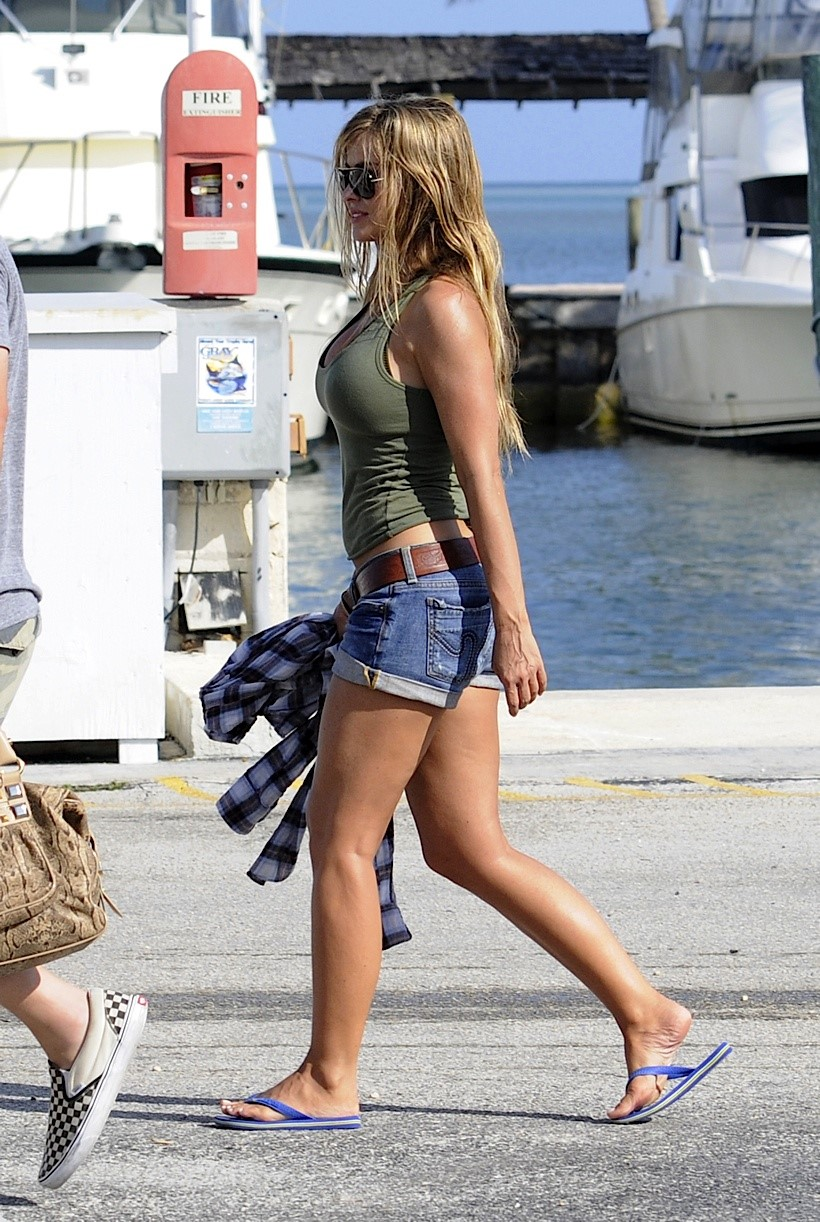face_no_mask: (331, 112, 437, 248)
